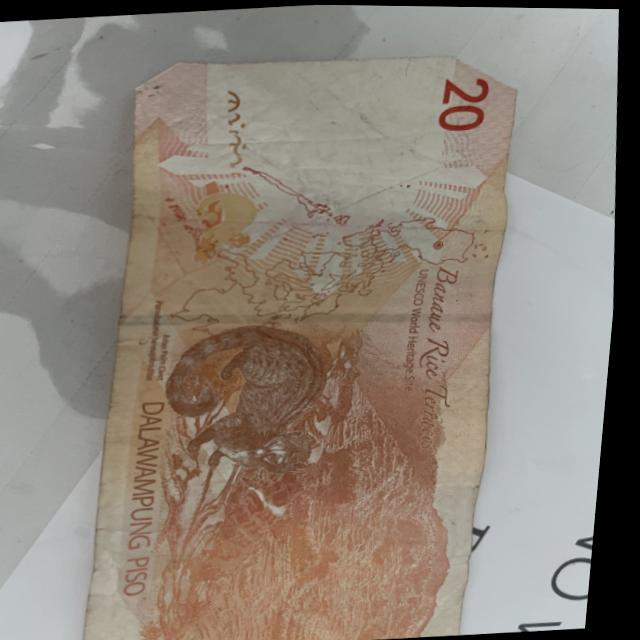20_civet: (160, 320, 347, 491)
20_civet_watermark: (186, 185, 269, 259)
